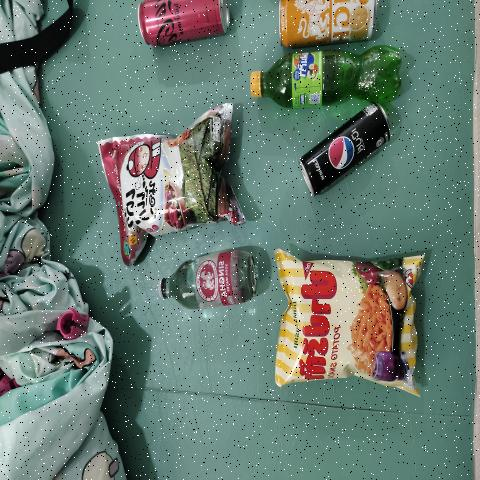coke_red: (128, 0, 247, 45)
fanta_green: (251, 52, 412, 107)
paprika: (278, 255, 410, 388)
pepsi_black: (300, 100, 384, 202)
singha_soda: (162, 262, 260, 307)
singha_yellow: (275, 0, 377, 51)
taokaenoi: (100, 138, 237, 242)
